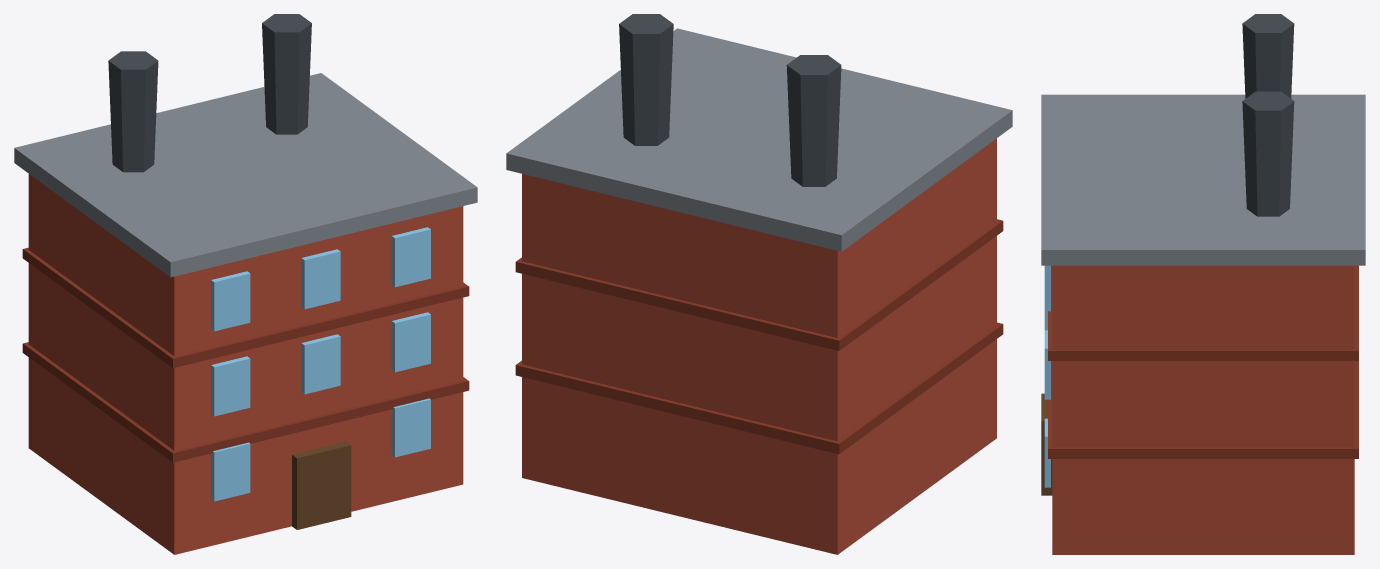
Rendered from house_4.glb.
3 renders of one model, left to right at view 1: azimuth 30°, elevation 25°; view 2: azimuth 150°, elevation 25°; view 3: azimuth 270°, elevation 25°, orthographic. The views are drawn at different scales.
Parts seen in each view (by area): view 1: tijolo.002, pedra_escura.001, vidro.003, tijolo_escuro, metal, porta.004; view 2: tijolo.002, pedra_escura.001, tijolo_escuro, metal; view 3: tijolo.002, pedra_escura.001, metal, tijolo_escuro, vidro.003, porta.004.
Boxes of the visible parts, x1,y1,x2,y2 form: tijolo.002: (28,174,463,554); pedra_escura.001: (14,73,477,277); vidro.003: (211,227,430,501); tijolo_escuro: (22,247,469,462); metal: (108,14,311,172); porta.004: (292,441,351,529); tijolo.002: (522,138,996,554); pedra_escura.001: (506,28,1012,251); tijolo_escuro: (515,219,1003,454); metal: (619,14,841,186); tijolo.002: (1052,265,1354,554); pedra_escura.001: (1041,94,1365,265); metal: (1242,14,1294,216); tijolo_escuro: (1048,265,1358,458); vidro.003: (1044,265,1050,487); porta.004: (1041,393,1052,495).
Bounding box in the file's own units: 1.7 × 2.13 × 1.5.
